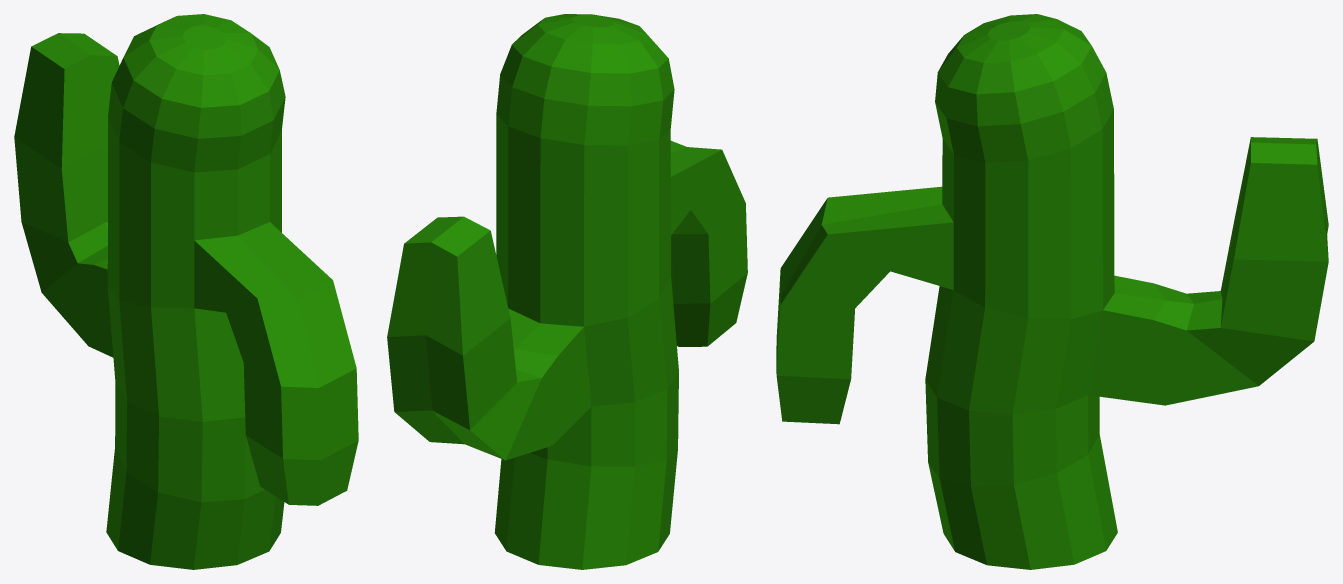
The model's file is cactus.fbx.
3 renders of one model, left to right at view 1: azimuth 30°, elevation 25°; view 2: azimuth 150°, elevation 25°; view 3: azimuth 270°, elevation 25°, orthographic.
Visible parts, largest first — view 1: 円柱; view 2: 円柱; view 3: 円柱.
Part boxes in pixels (box(x1,y1,x2,y2)): 円柱: box(14, 14, 358, 569); 円柱: box(387, 14, 747, 569); 円柱: box(776, 14, 1328, 569).
Bounding box in the file's own units: 2 × 6.41 × 6.34.
